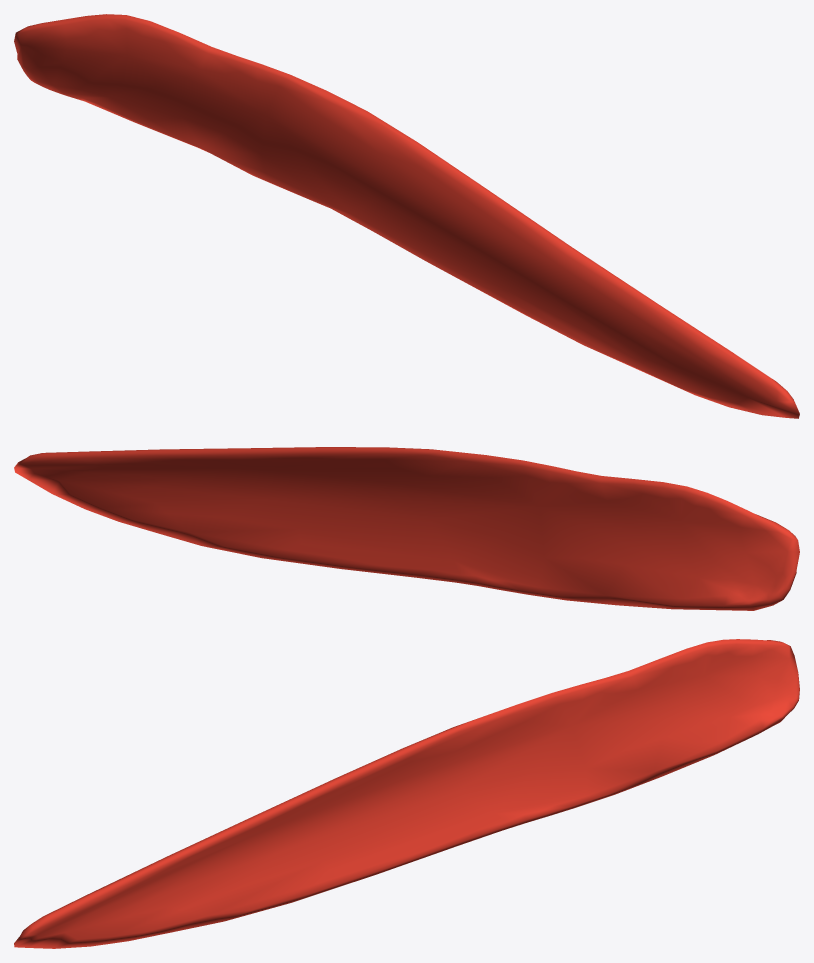
File: Plantar_interossei_5th_metatarsal_left.glb
3 views of the same model, one above another, from view 1: azimuth 30°, elevation 25°; view 2: azimuth 210°, elevation 25°; view 3: azimuth 270°, elevation 25° (orthographic). The views are drawn at different scales.
Parts seen in each view (by area): view 1: Plantar_interossei_muscles_on_5th_metatarsal_bone.l_Generate; view 2: Plantar_interossei_muscles_on_5th_metatarsal_bone.l_Generate; view 3: Plantar_interossei_muscles_on_5th_metatarsal_bone.l_Generate.
Boxes of the visible parts, x1,y1,x2,y2 form: Plantar_interossei_muscles_on_5th_metatarsal_bone.l_Generate: (14,14,799,418); Plantar_interossei_muscles_on_5th_metatarsal_bone.l_Generate: (14,447,799,610); Plantar_interossei_muscles_on_5th_metatarsal_bone.l_Generate: (14,639,799,948).
Size of the model in its own units: 0.0146 by 0.00812 by 0.0307.
